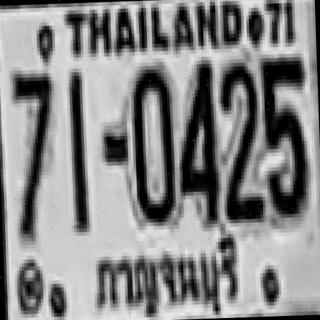N00: (130, 63, 174, 221)
N01: (66, 70, 86, 208)
N02: (220, 60, 266, 222)
N04: (173, 56, 217, 221)
N05: (260, 55, 307, 216)
N07: (11, 69, 55, 223)
P17: (80, 228, 245, 320)
